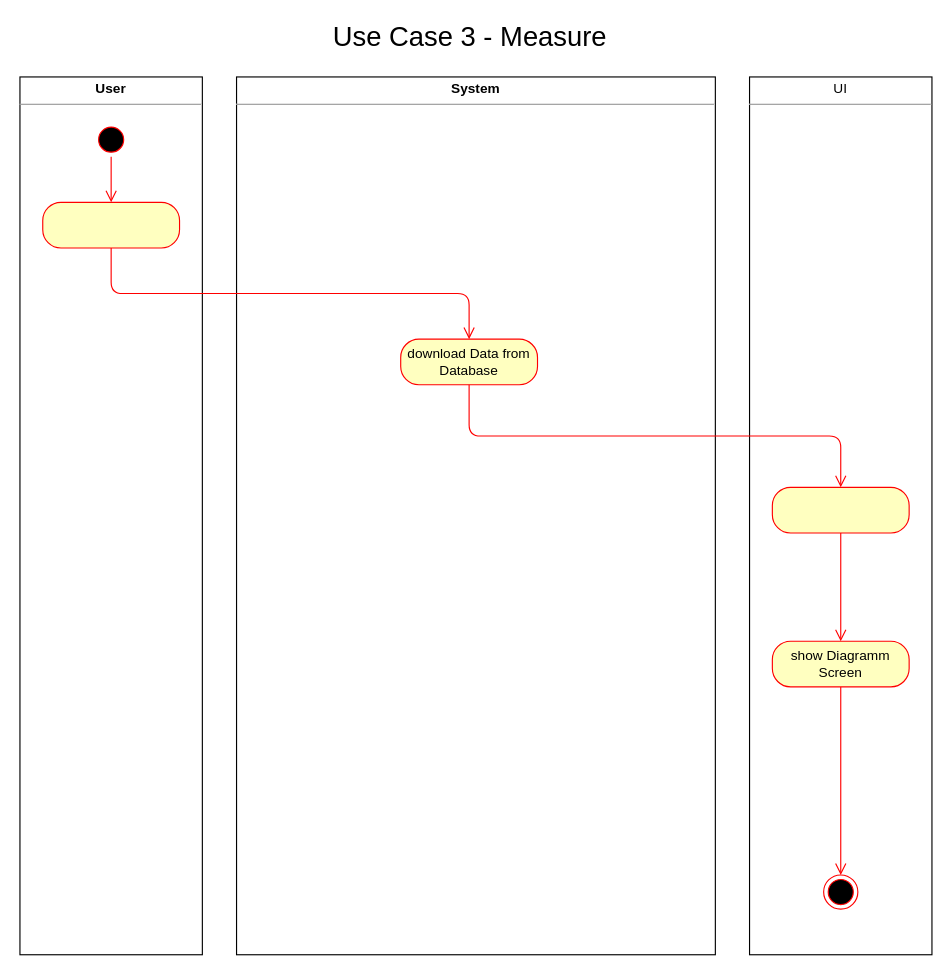
The diagram is 952 pixels wide and 975 high, and some of its shapes have lost their labels. Each missing label, with the centre of its shape:
create Diagramm: point (840, 509)
klick on "Show Diagramms": point (111, 224)
